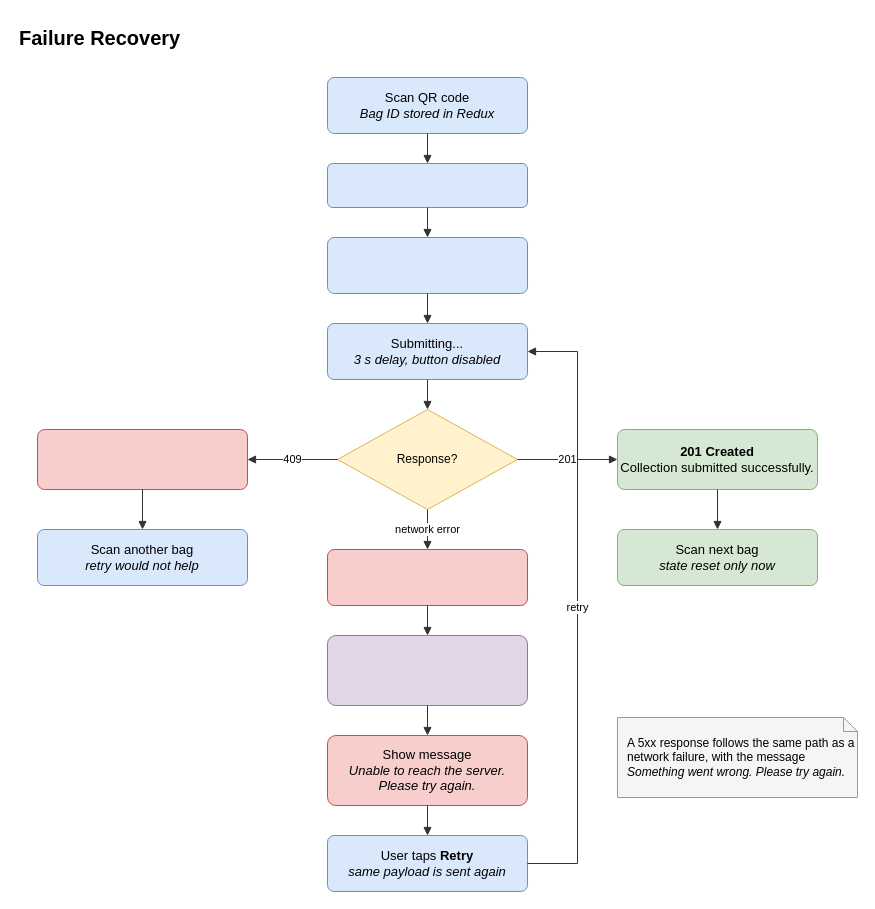
Some shapes in this 875 by 909 pixel diagram are drawn without their labels. Here are the shapes that lost their labels. From the top down, the box of each, then its label:
(326, 162, 528, 208): Enter weight (kg)
(326, 236, 528, 294): Tap Submit timestamp fixed on first attempt
(36, 428, 248, 490): 409 This bag has already been collected.
(326, 548, 528, 606): Network failure no response or 10 s timeout
(326, 634, 528, 706): Preserve state QR ID, weight and timestamp stay in the Redux store
